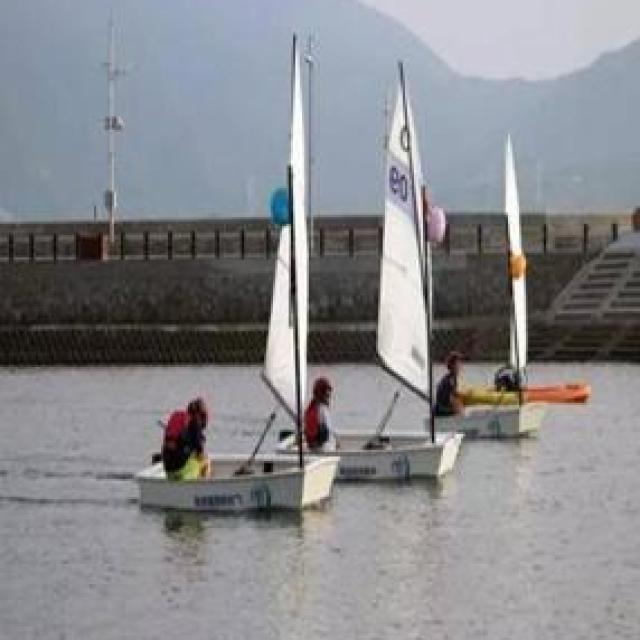sailboat: (135, 34, 330, 514), (286, 55, 462, 480), (438, 125, 548, 439)
